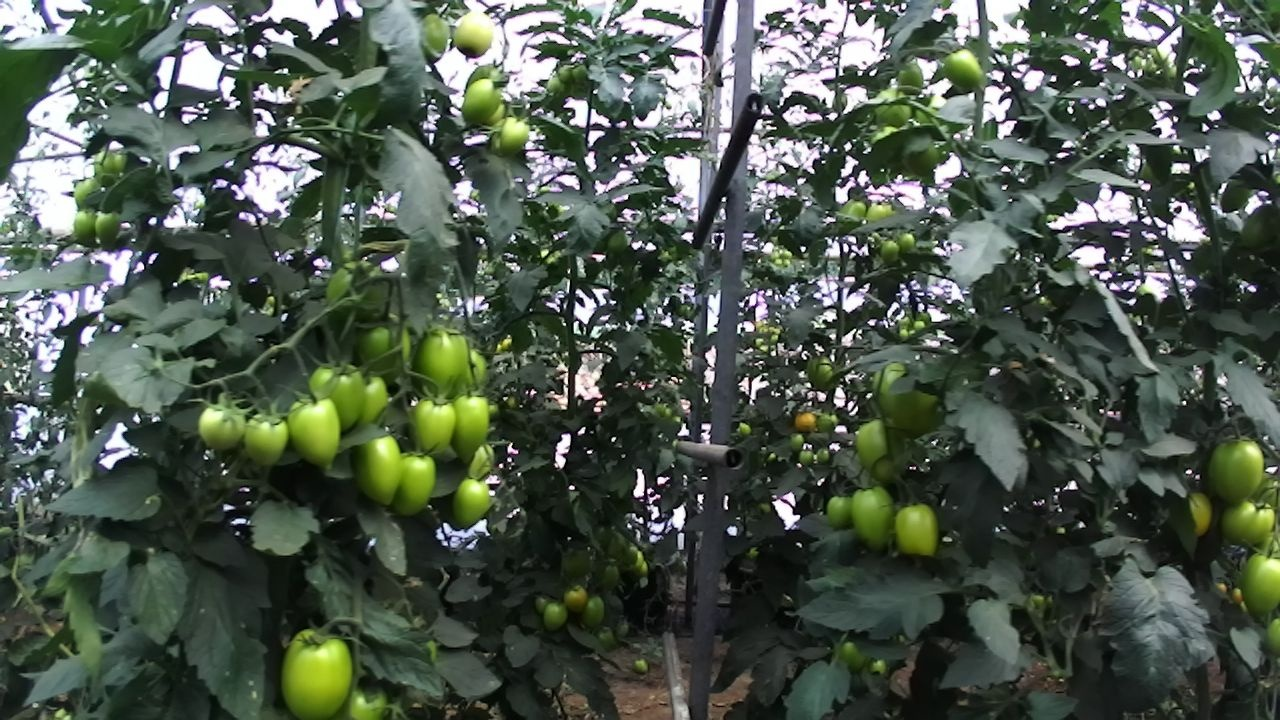tomato: (269, 619, 366, 720), (864, 357, 964, 445), (406, 313, 477, 411), (301, 350, 376, 438), (283, 388, 352, 478), (1203, 425, 1271, 516), (345, 427, 413, 514), (383, 439, 441, 526), (349, 308, 416, 382), (442, 385, 497, 474), (885, 495, 951, 569), (844, 409, 909, 483), (844, 481, 906, 558), (402, 392, 467, 465), (450, 69, 514, 135), (1230, 540, 1280, 623), (235, 403, 294, 473), (1216, 490, 1280, 552), (446, 3, 502, 69), (194, 399, 253, 456), (443, 473, 499, 532), (936, 42, 996, 97), (338, 676, 411, 720), (486, 108, 539, 166), (866, 80, 921, 134), (828, 628, 879, 685), (412, 6, 456, 69), (1176, 484, 1221, 542), (818, 484, 866, 536), (85, 141, 129, 189), (555, 539, 597, 586), (67, 202, 107, 251), (889, 59, 933, 103), (800, 352, 841, 398), (68, 172, 108, 214), (90, 205, 127, 245), (538, 597, 573, 637), (836, 193, 870, 233), (558, 579, 592, 617), (577, 590, 608, 630), (862, 198, 894, 233), (597, 557, 625, 596), (791, 405, 821, 436), (877, 235, 902, 268), (813, 409, 841, 437), (894, 228, 919, 257), (784, 431, 808, 455), (813, 444, 835, 467), (795, 446, 816, 469)
